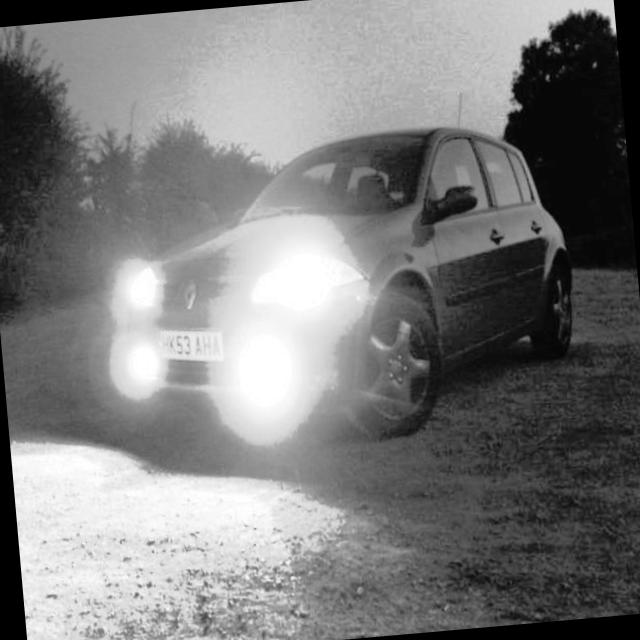Car: (101, 113, 594, 460)
